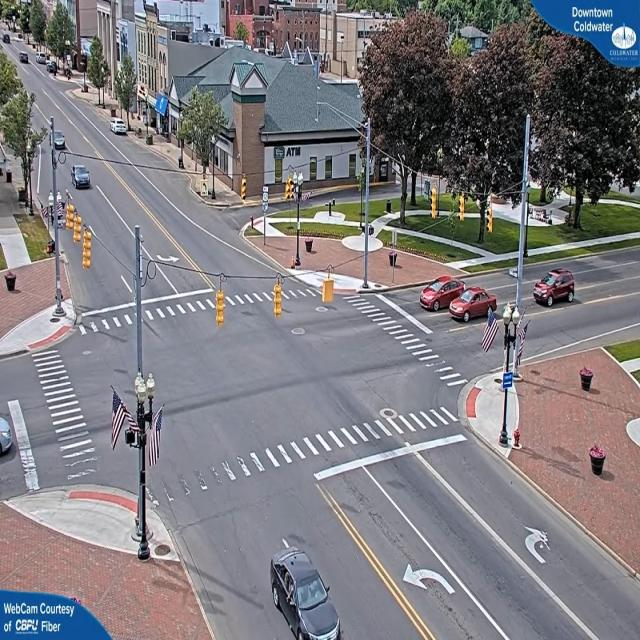car: (270, 546, 344, 640), (533, 268, 577, 306), (453, 286, 496, 322), (422, 278, 463, 314), (0, 414, 15, 458), (70, 165, 91, 189), (111, 120, 129, 136), (53, 132, 67, 150), (19, 53, 29, 64)
